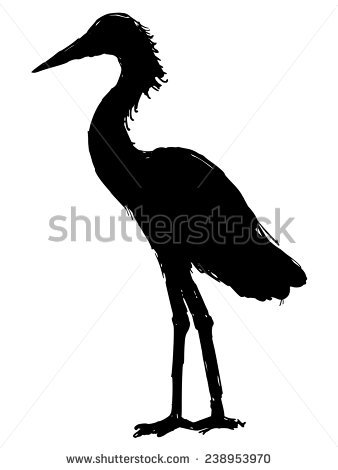heron: (29, 8, 312, 438)
